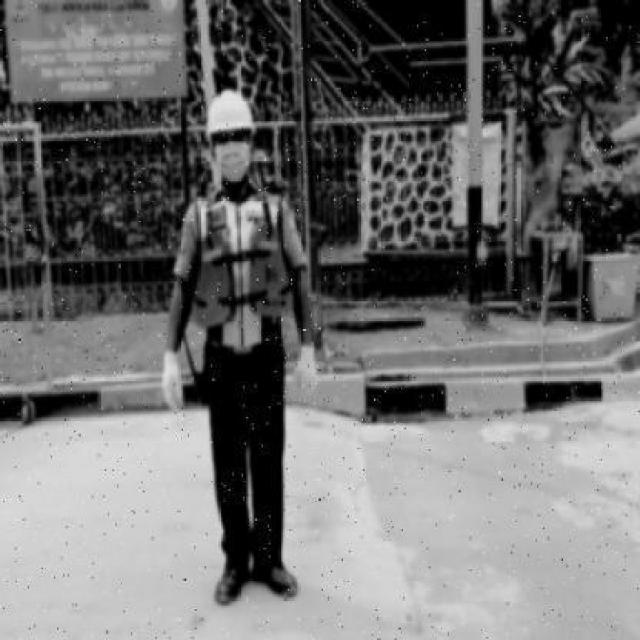Gloves: (158, 341, 190, 419), (294, 341, 318, 402)
Helmet: (206, 87, 260, 138)
Mask: (216, 142, 252, 185)
Vest: (192, 214, 294, 332)
